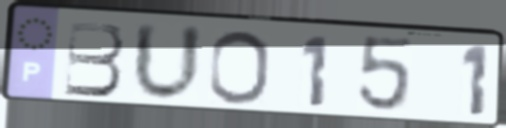1: (459, 43, 490, 119), (299, 34, 329, 110)
5: (355, 33, 416, 117)
B: (62, 19, 127, 99)
O: (206, 28, 272, 107)
U: (129, 19, 205, 106)
